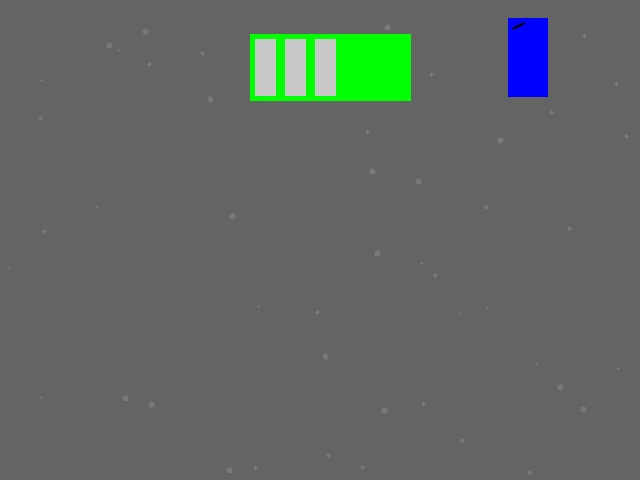bus: (250, 34, 410, 100)
motorcycle: (508, 18, 547, 96)
